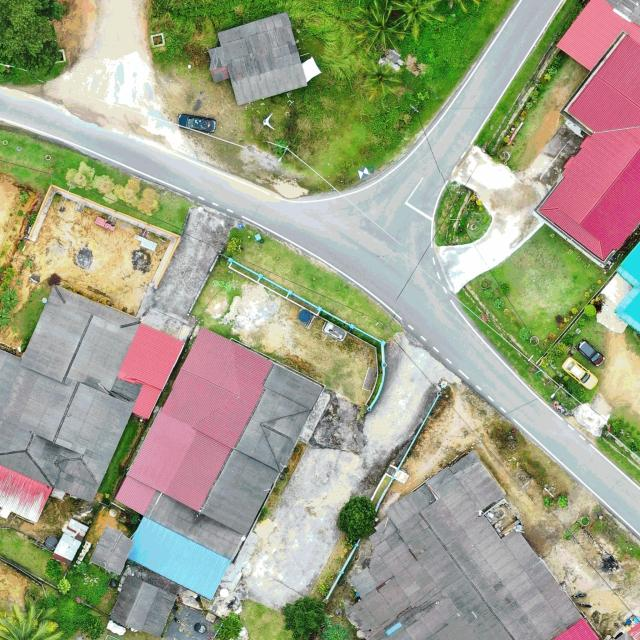Tree: (0, 1, 68, 85), (350, 0, 406, 51), (389, 0, 449, 41), (0, 600, 60, 640), (336, 494, 379, 545), (358, 57, 404, 102), (281, 595, 327, 639), (212, 612, 243, 640), (44, 560, 63, 582), (56, 579, 70, 595)
